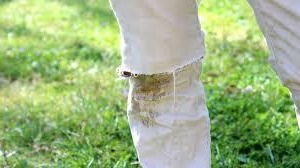earth: (133, 72, 165, 127)
